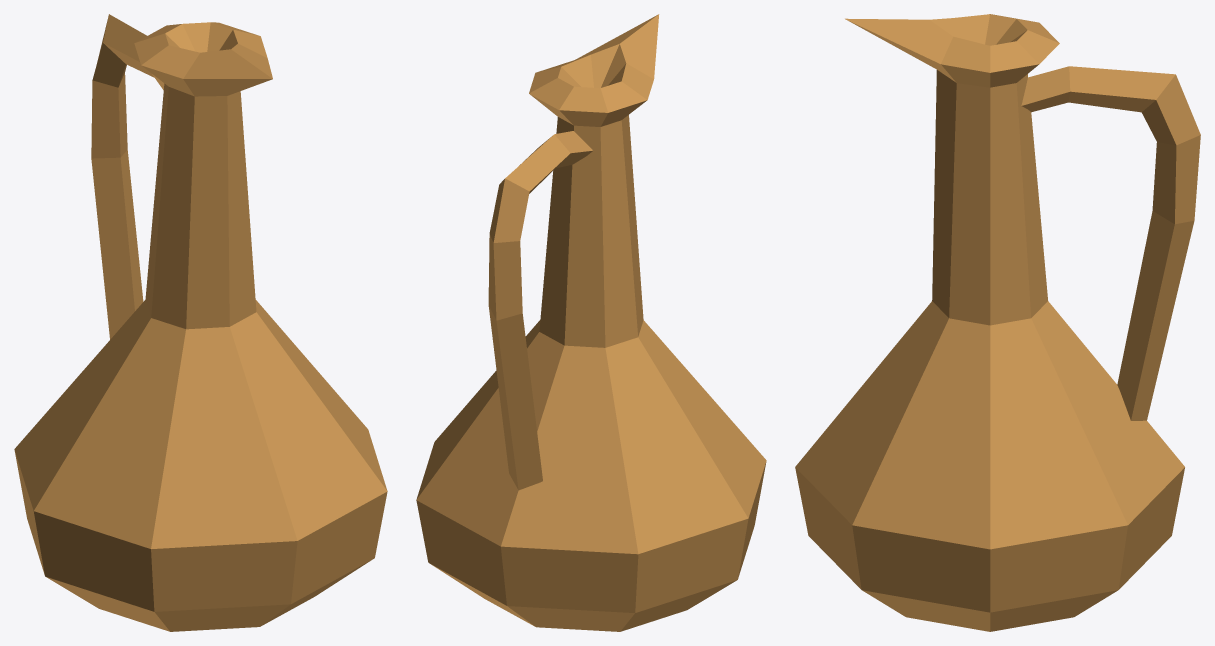
The model's file is SM_Prop_Gold_Teapot_04.glb.
3 views of the same model, side by side, from view 1: azimuth 30°, elevation 25°; view 2: azimuth 150°, elevation 25°; view 3: azimuth 270°, elevation 25° (orthographic). The views are drawn at different scales.
Visible parts, largest first — view 1: SM_Prop_Gold_Teapot_04; view 2: SM_Prop_Gold_Teapot_04; view 3: SM_Prop_Gold_Teapot_04.
Part boxes in pixels (x1,y1,x2,y2): SM_Prop_Gold_Teapot_04: (14,14,387,631); SM_Prop_Gold_Teapot_04: (416,14,766,631); SM_Prop_Gold_Teapot_04: (795,14,1200,631).
Size of the model in its own units: 0.2871 by 0.4571 by 0.2986.
1 material, 1 textured.
